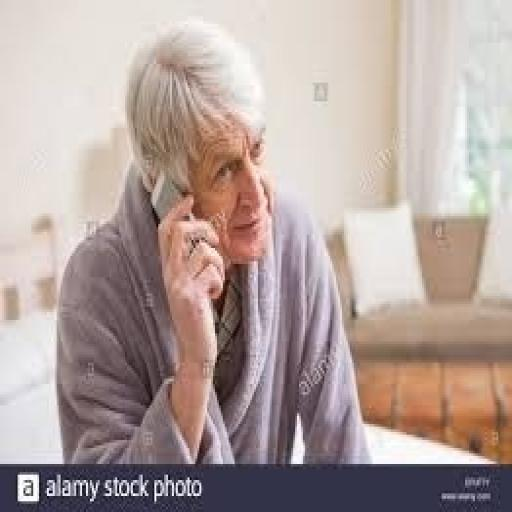calling: (53, 16, 373, 467)
